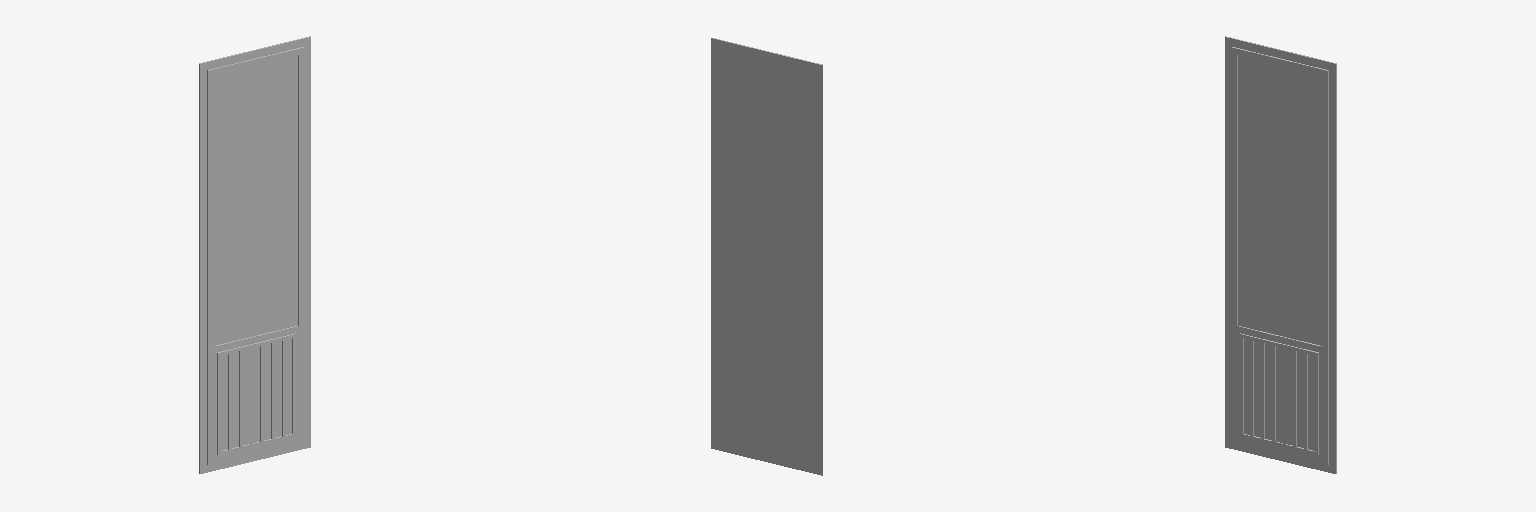
Rendered from wall2.obj.
The picture shows the model from 3 angles: view 1: azimuth 30°, elevation 25°; view 2: azimuth 150°, elevation 25°; view 3: azimuth 330°, elevation 25°; orthographic projection.
Visible parts, largest first — view 1: object 1; view 2: object 1; view 3: object 1.
Part boxes in pixels (left/top/right/bottom): object 1: left=199, top=36, right=310, bottom=473; object 1: left=711, top=38, right=822, bottom=475; object 1: left=1225, top=36, right=1336, bottom=473.
Bounding box in the file's own units: 7.3 × 25.6 × 0.3.